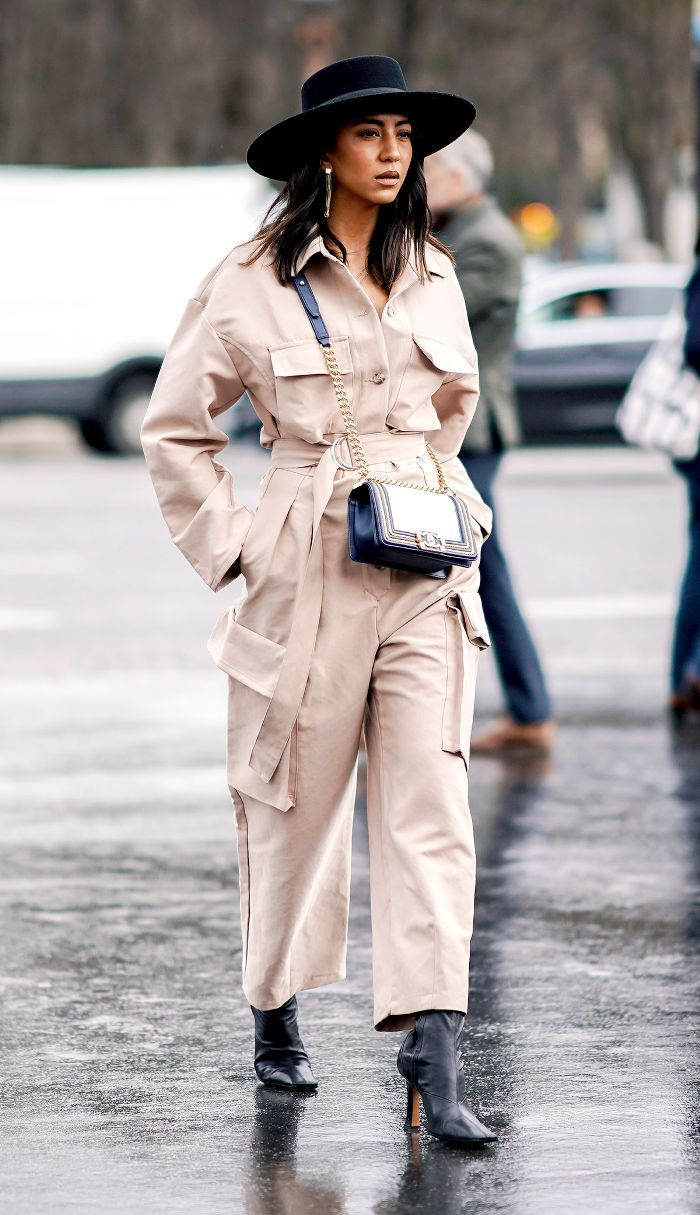person: (138, 50, 514, 1153)
